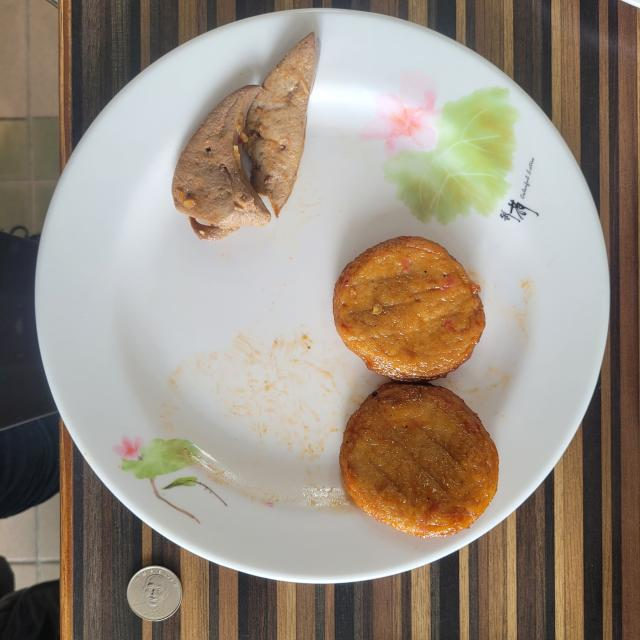coin: (126, 566, 182, 621)
fish cake: (332, 236, 499, 538)
pig liver: (171, 32, 320, 240)
